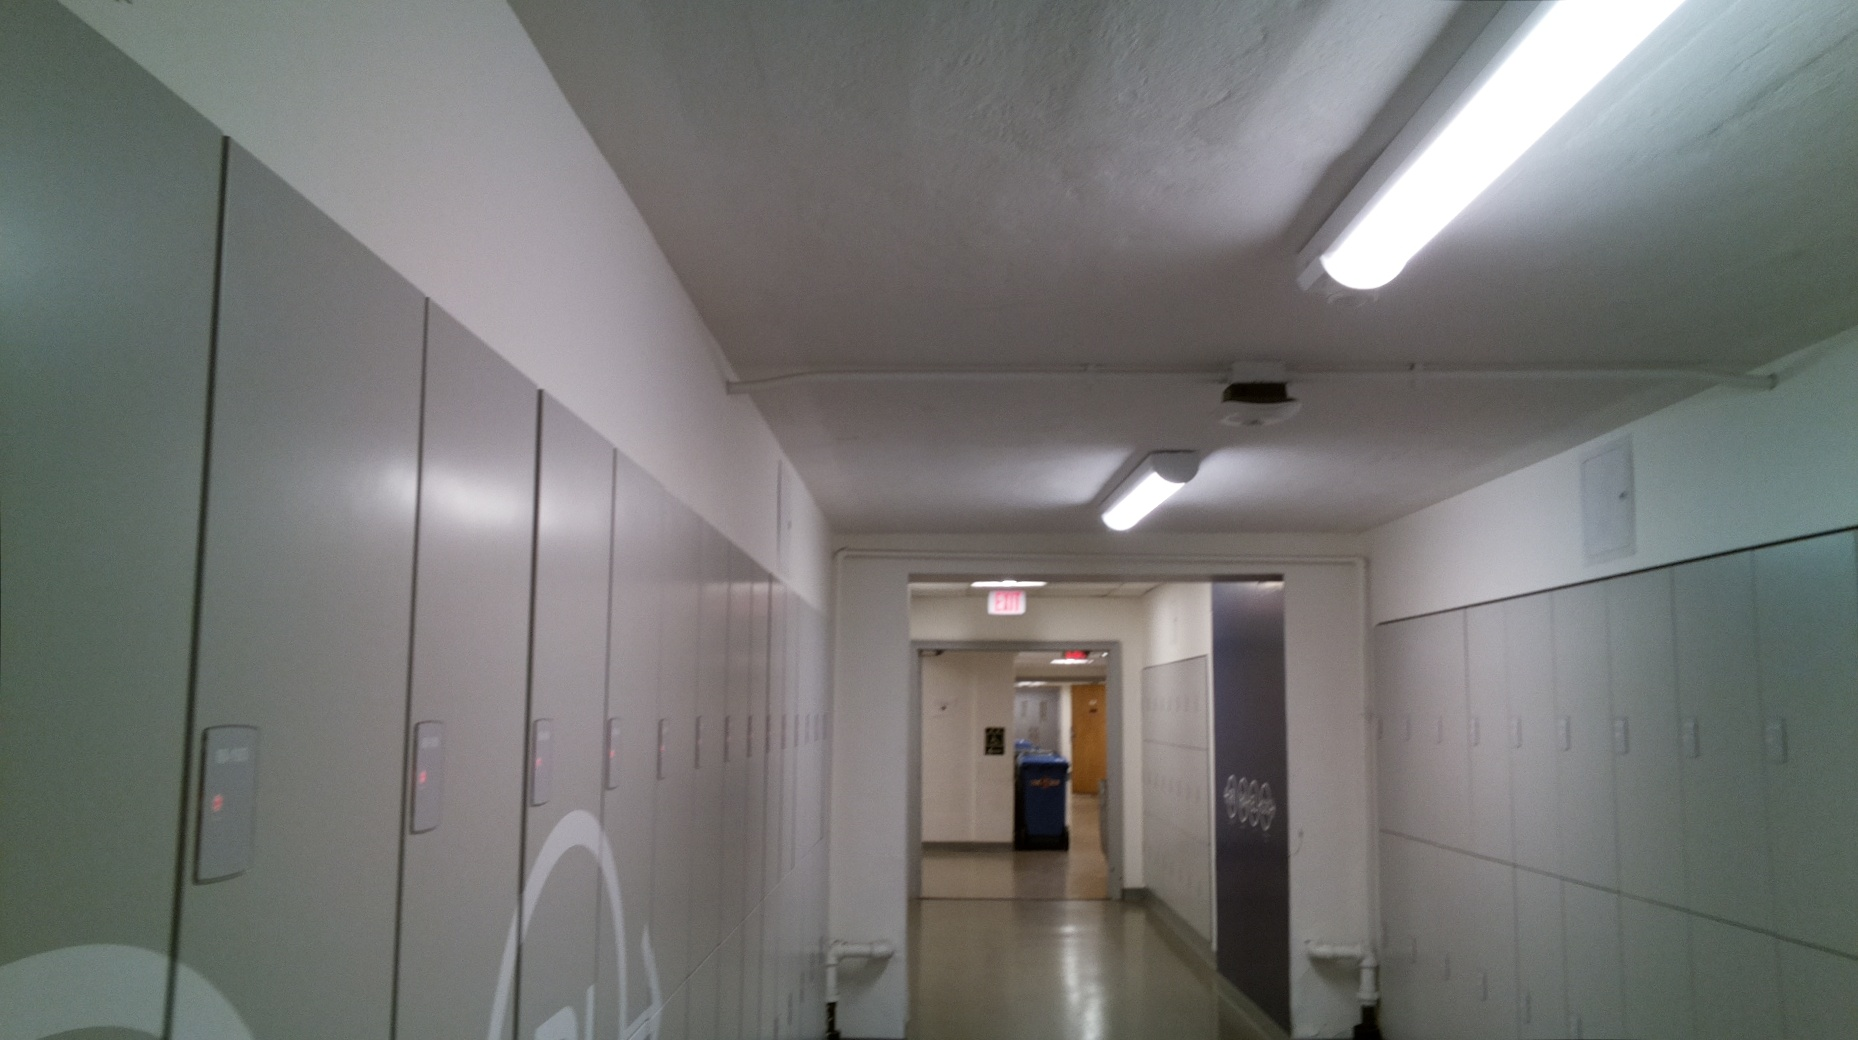exit sign: (986, 588, 1029, 618)
